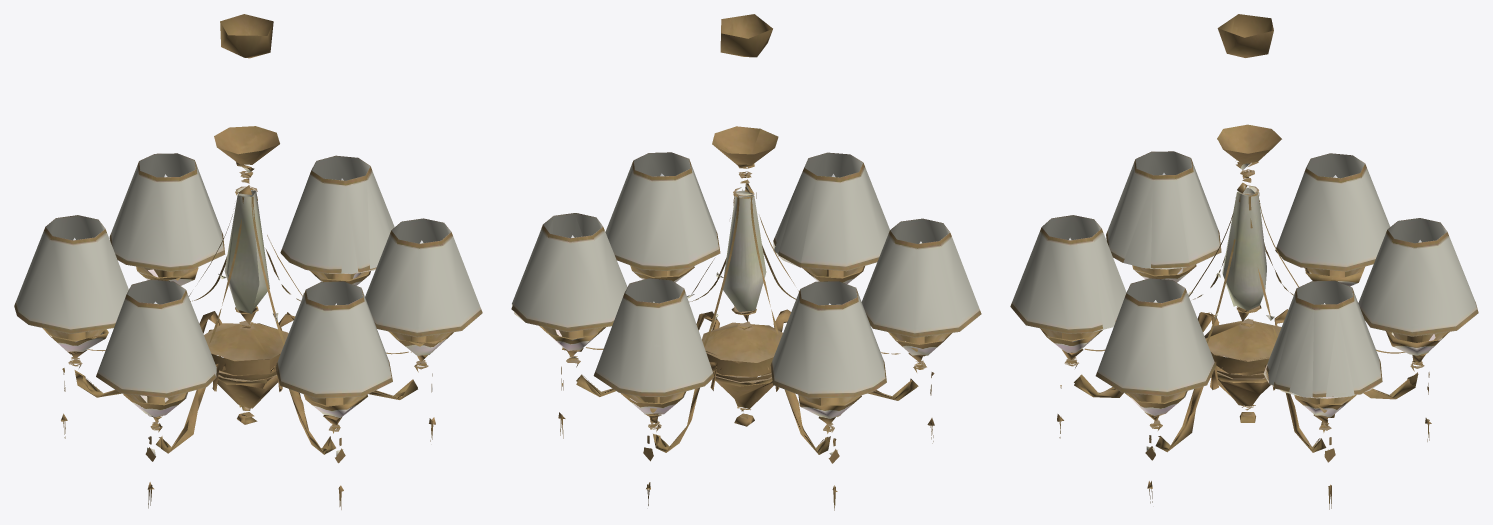
The model's file is Chandelier_01.glb.
The picture shows the model from 3 angles, left to right: view 1: azimuth 30°, elevation 25°; view 2: azimuth 150°, elevation 25°; view 3: azimuth 270°, elevation 25°; orthographic projection.
Visible parts, largest first — view 1: Chandelier_01; view 2: Chandelier_01; view 3: Chandelier_01.
Boxes of the visible parts, x1,y1,x2,y2 form: Chandelier_01: (14,14,482,509); Chandelier_01: (511,14,981,510); Chandelier_01: (1010,14,1478,509).
Size of the model in its own units: 0.7403 by 0.7986 by 0.8155.
2 materials, 1 textured.
